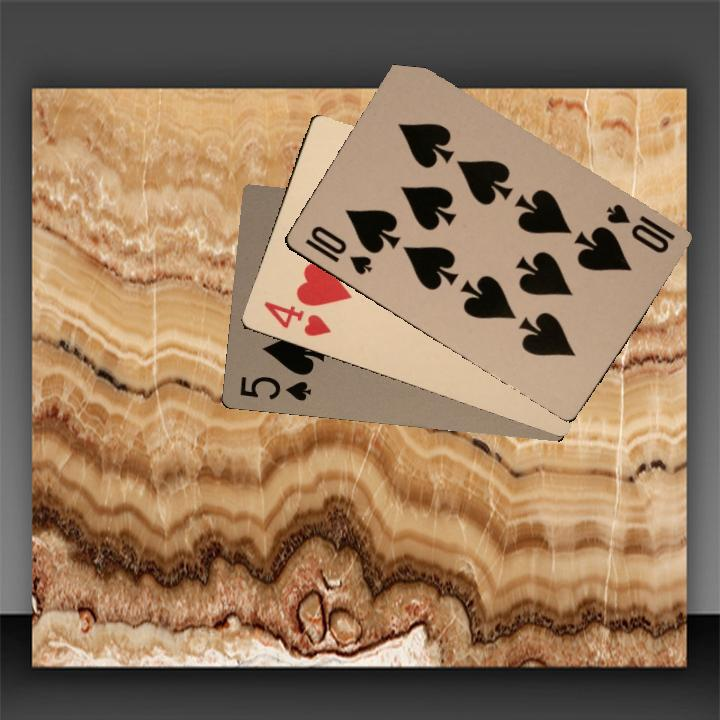10s: (602, 199, 678, 256), (301, 221, 375, 278)
4h: (259, 297, 334, 339)
5s: (235, 372, 313, 404)
